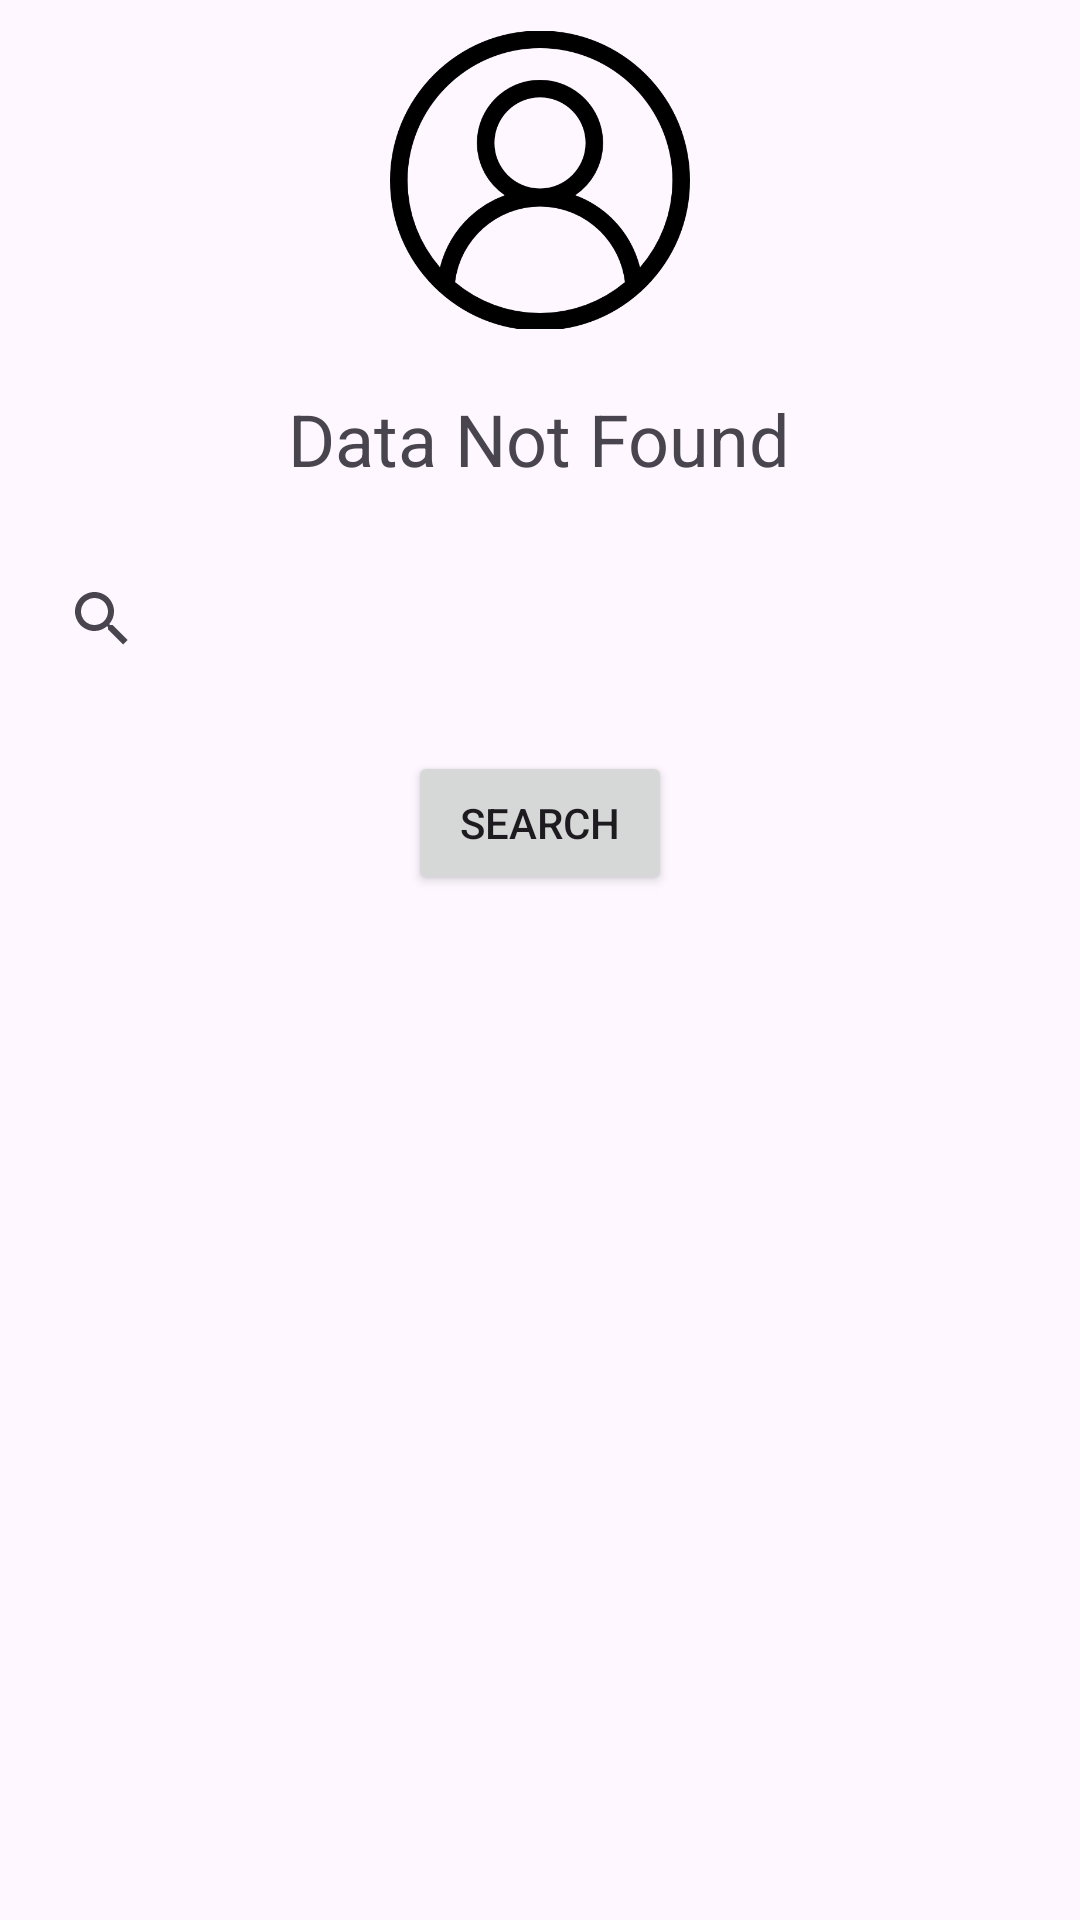

Point at icon controls on the screen. Image size 1080x1920, points as point (x, y).
User Icon: point (540, 180)
